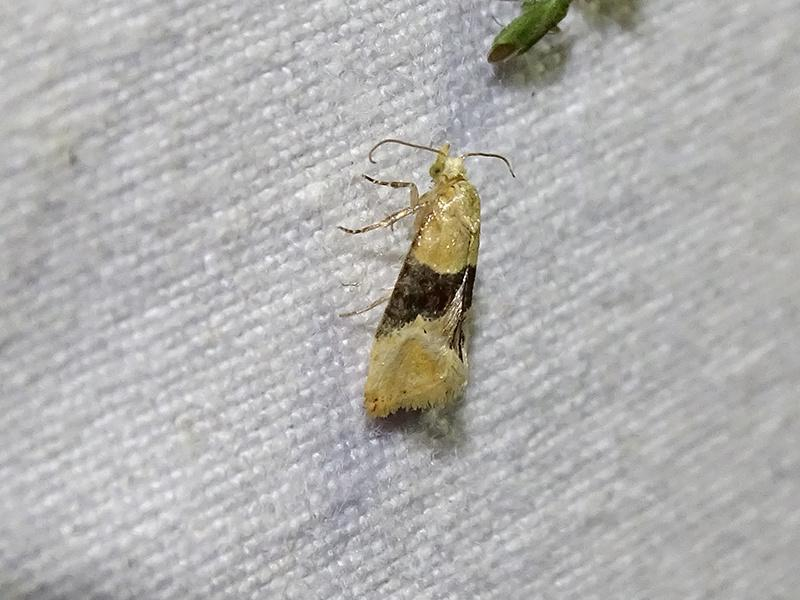Eupoecilia Ambiguella: (336, 139, 517, 419)
